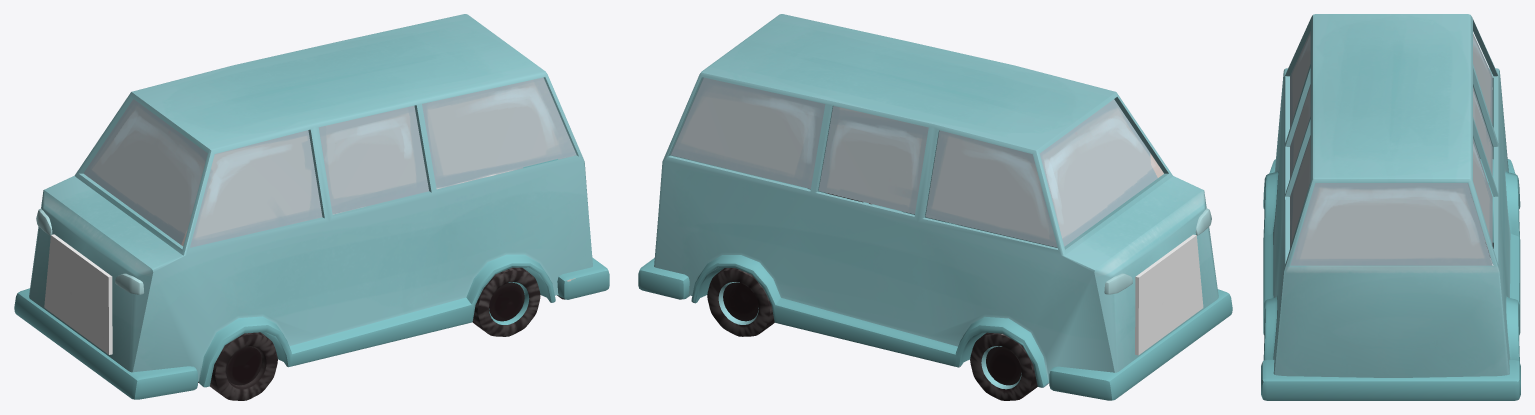
File: Furgo3.fbx
3 renders of one model, left to right at view 1: azimuth 30°, elevation 25°; view 2: azimuth 150°, elevation 25°; view 3: azimuth 270°, elevation 25°, orthographic.
Visible parts, largest first — view 1: furgo; view 2: furgo; view 3: furgo.
Part boxes in pixels (<box>): furgo: <box>14,14,609,400</box>; furgo: <box>638,14,1232,400</box>; furgo: <box>1261,14,1520,400</box>.
Bounding box in the file's own units: 436 × 212 × 212.
